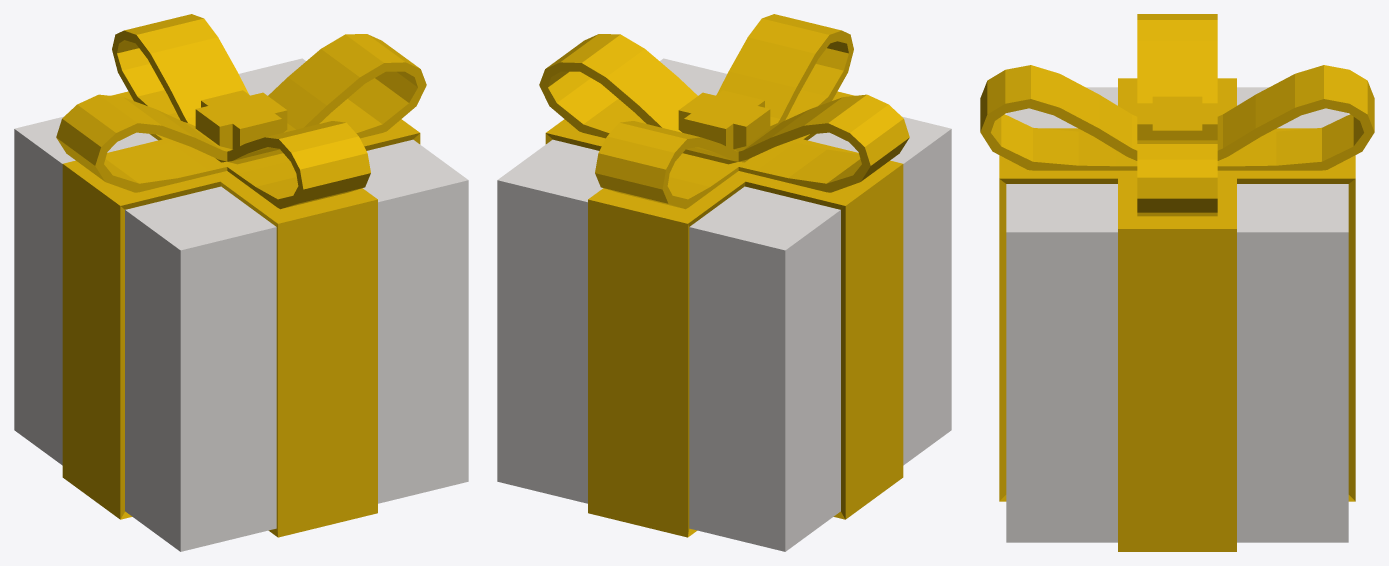
3 views of the same model, side by side, from view 1: azimuth 30°, elevation 25°; view 2: azimuth 150°, elevation 25°; view 3: azimuth 270°, elevation 25° (orthographic). The views are drawn at different scales.
Visible parts, largest first — view 1: GiftBox, Ribbon, Bow; view 2: GiftBox, Ribbon, Bow; view 3: GiftBox, Ribbon, Bow.
Boxes of the visible parts, box(x1,y1,x2,y2) form: GiftBox: box(14, 58, 468, 551); Ribbon: box(62, 91, 420, 537); Bow: box(56, 14, 426, 209); GiftBox: box(497, 58, 951, 551); Ribbon: box(545, 91, 903, 537); Bow: box(539, 14, 909, 209); GiftBox: box(1006, 87, 1348, 542); Ribbon: box(999, 78, 1355, 551); Bow: box(980, 14, 1374, 216).
Size of the model in its own units: 1.67 by 1.85 by 1.67.
